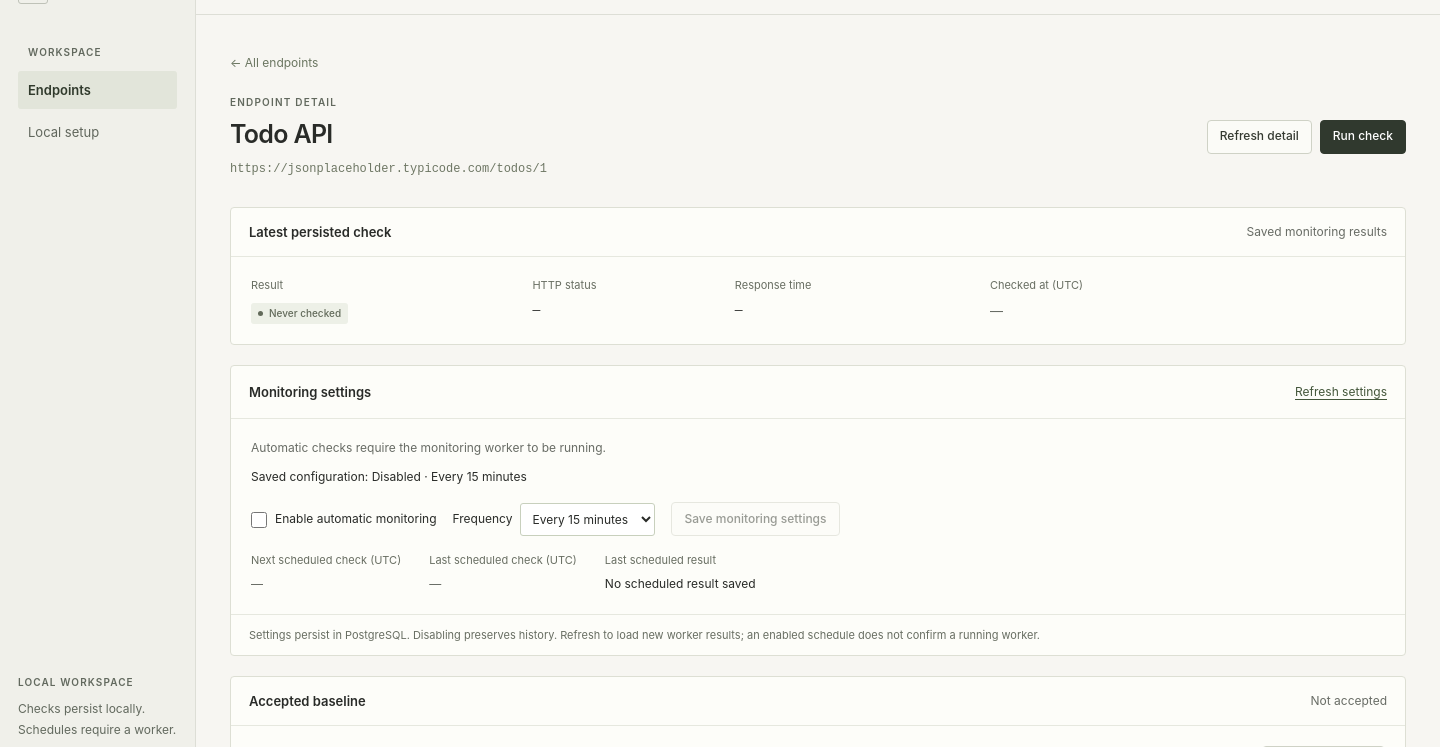
Test: endpoint detail, checking, and history › shows an upstream failure as failed even though the API created a check record
Click the button "Run check": (1363, 137) [1320,120,1406,154]
(page scrolled)
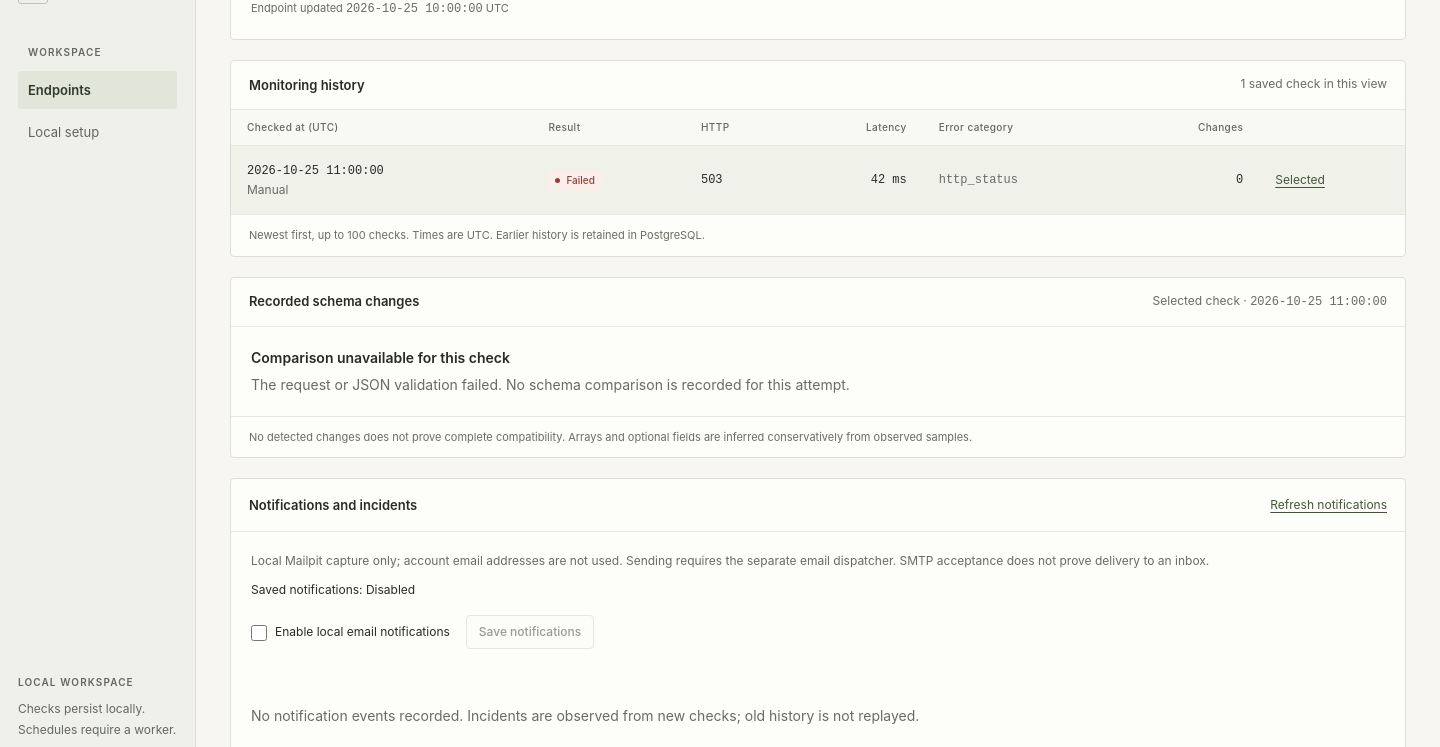
Check: the heading "Comparison unavailable for this check" is shown, box [251,348,510,366]
